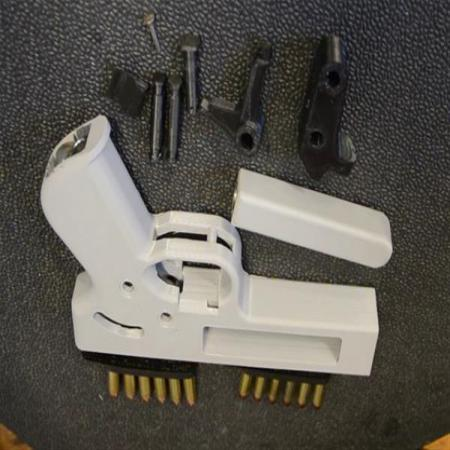Pistol: (40, 112, 386, 388)
